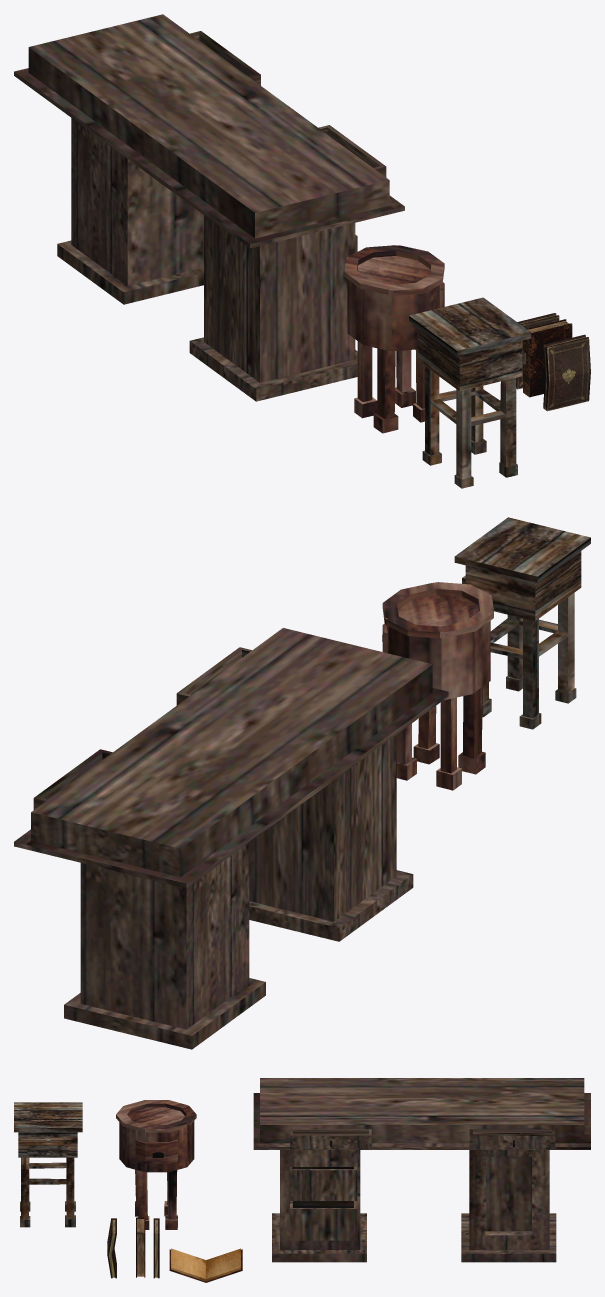
The picture shows the model from 3 angles, top to bottom: view 1: azimuth 30°, elevation 25°; view 2: azimuth 150°, elevation 25°; view 3: azimuth 270°, elevation 25°; orthographic projection. The views are drawn at different scales.
Visible parts, largest first — view 1: стол, стумба 1, тумба2, помятая книга, книга2; view 2: стол, стумба 1, тумба2; view 3: стол, тумба2, стумба 1, книга откр, книга2, помятая книга, книга.
Part boxes in pixels (left/top/right/bottom): стол: left=14, top=14, right=404, bottom=401; стумба 1: left=409, top=297, right=531, bottom=488; тумба2: left=344, top=245, right=444, bottom=433; помятая книга: left=543, top=334, right=590, bottom=411; книга2: left=523, top=319, right=572, bottom=397; стол: left=14, top=628, right=448, bottom=1049; стумба 1: left=454, top=517, right=590, bottom=729; тумба2: left=382, top=582, right=493, bottom=790; стол: left=253, top=1078, right=590, bottom=1262; тумба2: left=116, top=1100, right=196, bottom=1229; стумба 1: left=14, top=1102, right=82, bottom=1227; книга откр: left=169, top=1248, right=242, bottom=1282; книга2: left=136, top=1217, right=145, bottom=1277; помятая книга: left=107, top=1218, right=116, bottom=1278; книга: left=153, top=1218, right=159, bottom=1278.
Size of the model in its own units: 689 by 525 by 1947.
Materials: 9 (9 with a texture image).
